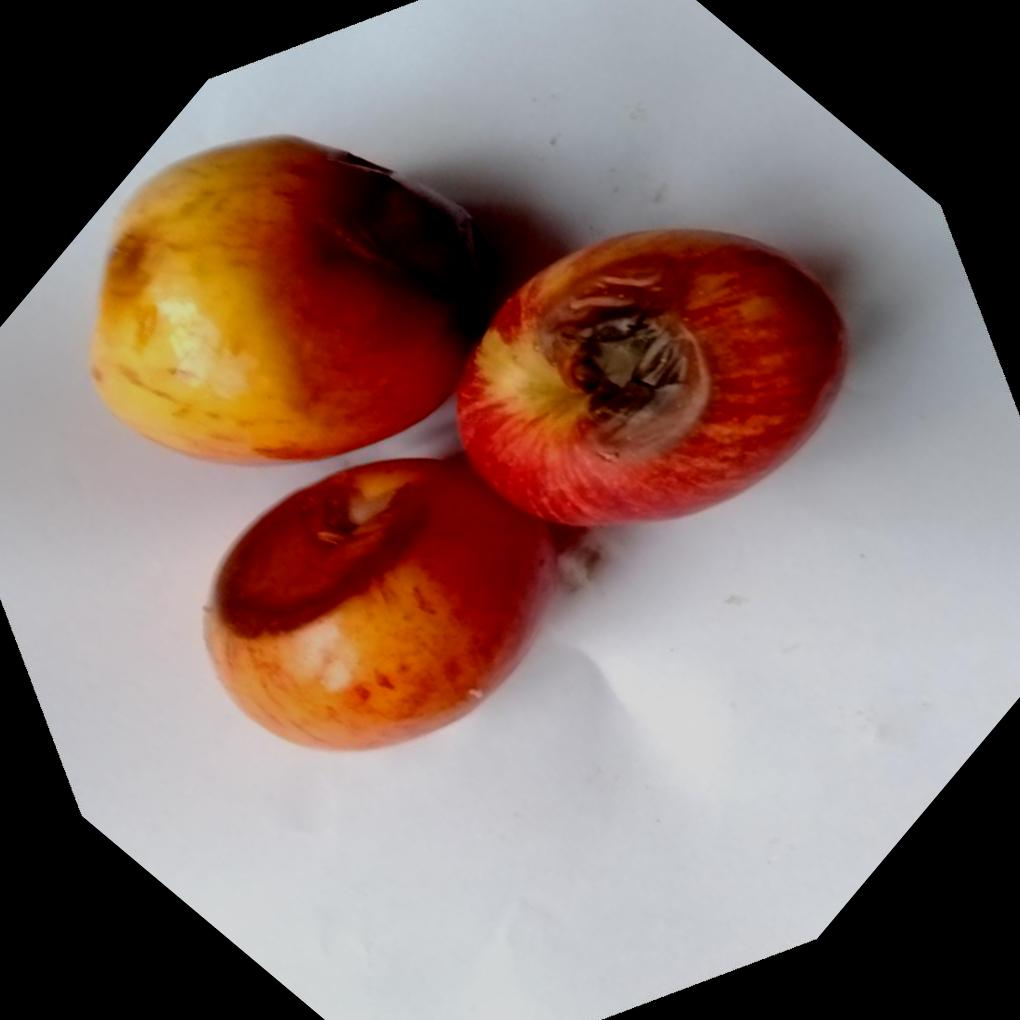FreshOrange: (84, 133, 848, 749)
